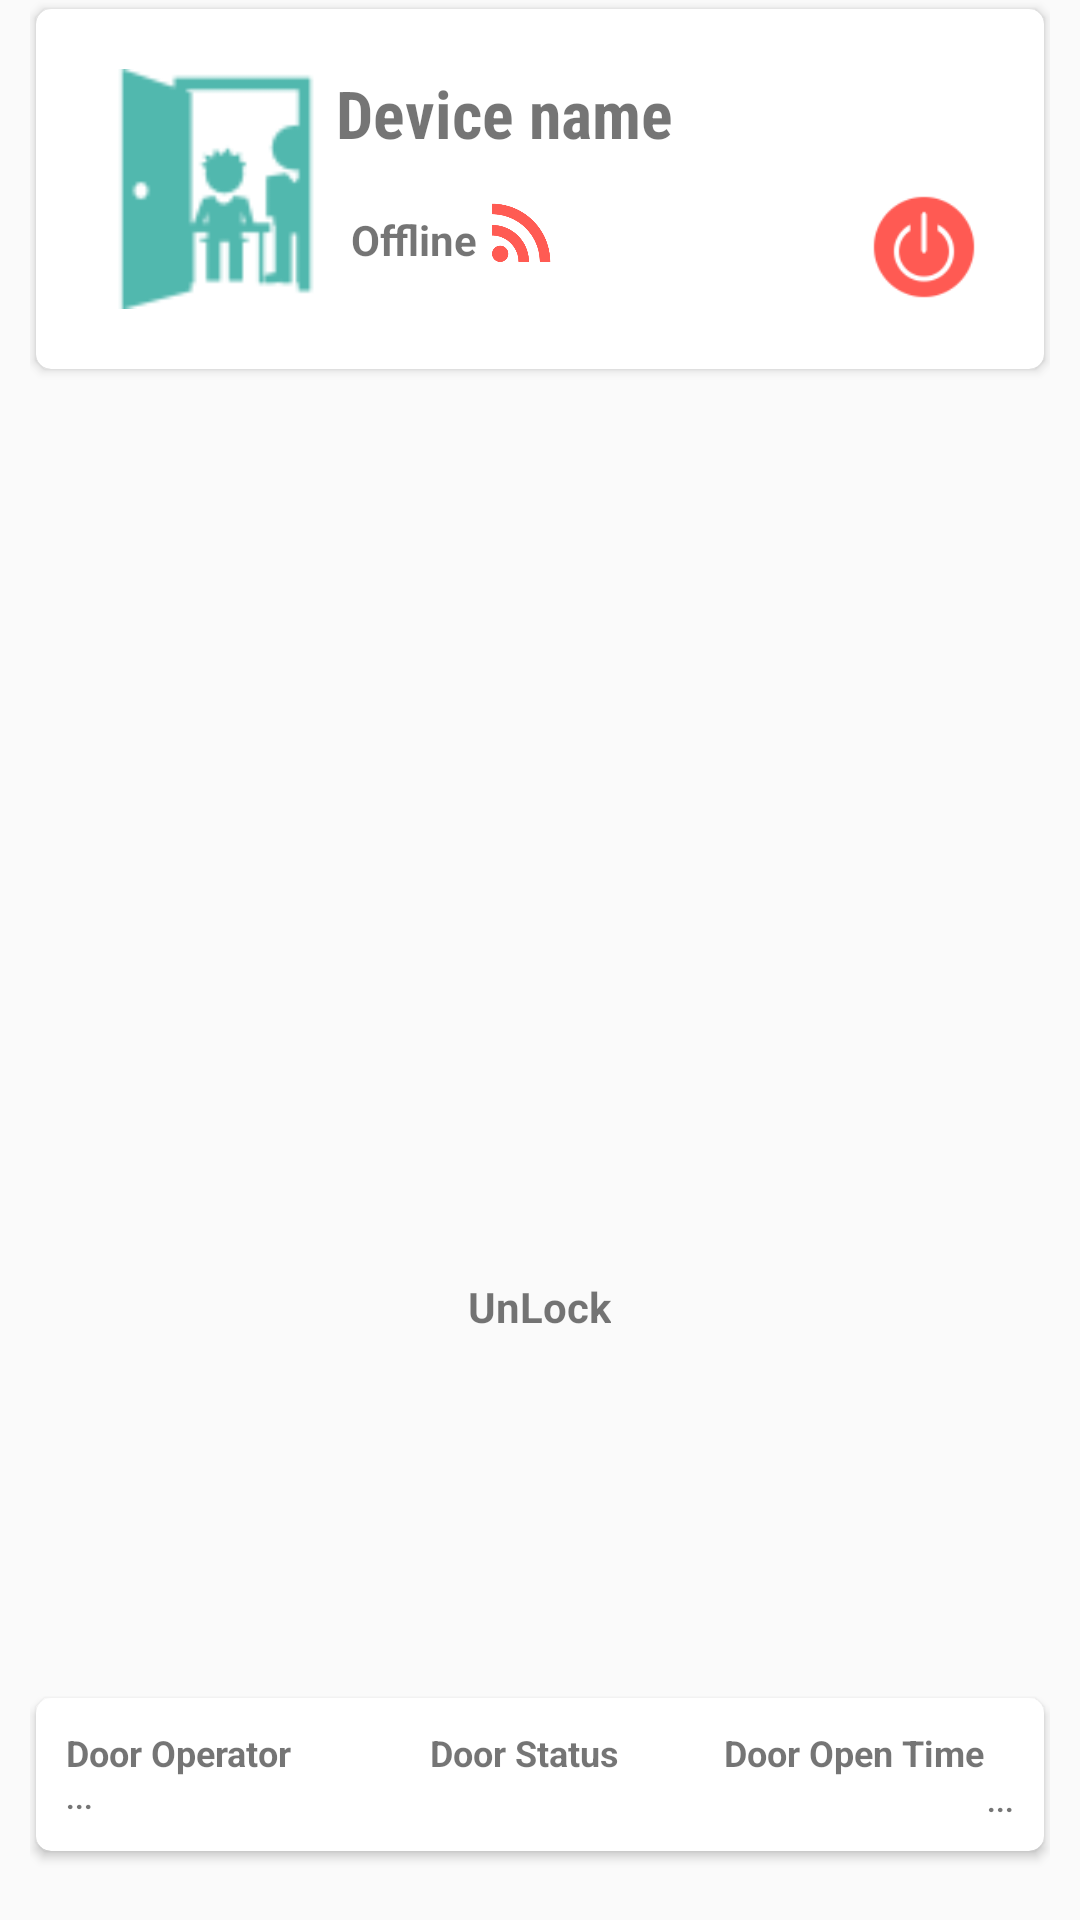

Icon click points for this 1080px×1920px phone screenshot, format point (x, y):
door open: point (217, 189)
power off: point (924, 247)
wifi: point (521, 233)
